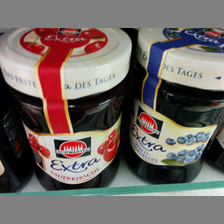jam: (1, 28, 133, 191), (123, 28, 224, 185)
